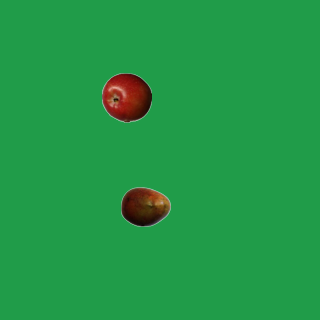Apple Braeburn: (101, 72, 151, 122)
Mango Red: (120, 181, 170, 231)
